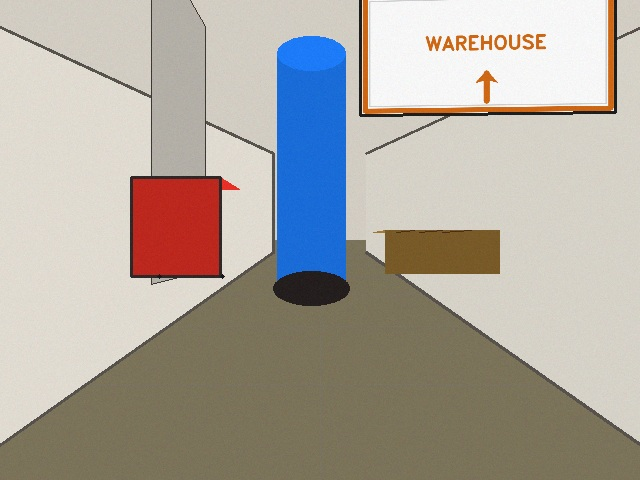cart: (131, 177, 239, 276)
directional_sign: (360, 0, 615, 115)
pallet: (373, 230, 499, 273)
person: (277, 53, 345, 288)
